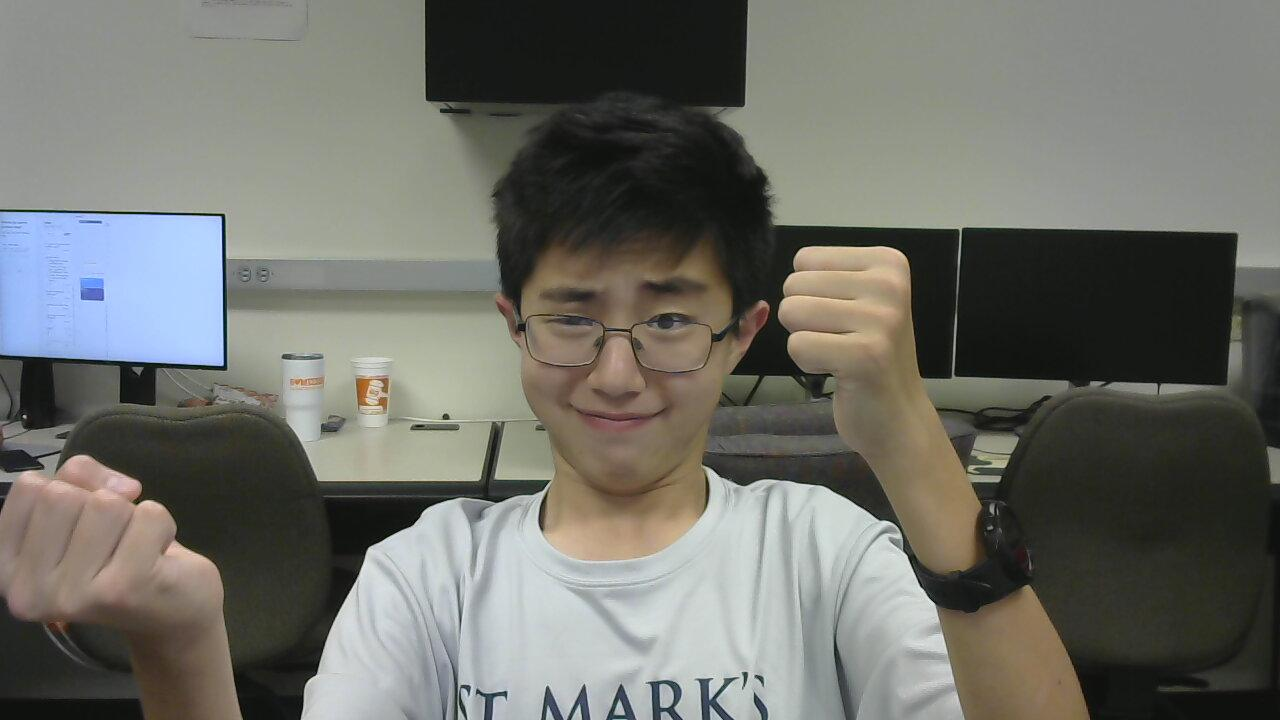fist: (0, 456, 258, 666), (778, 232, 937, 415)
